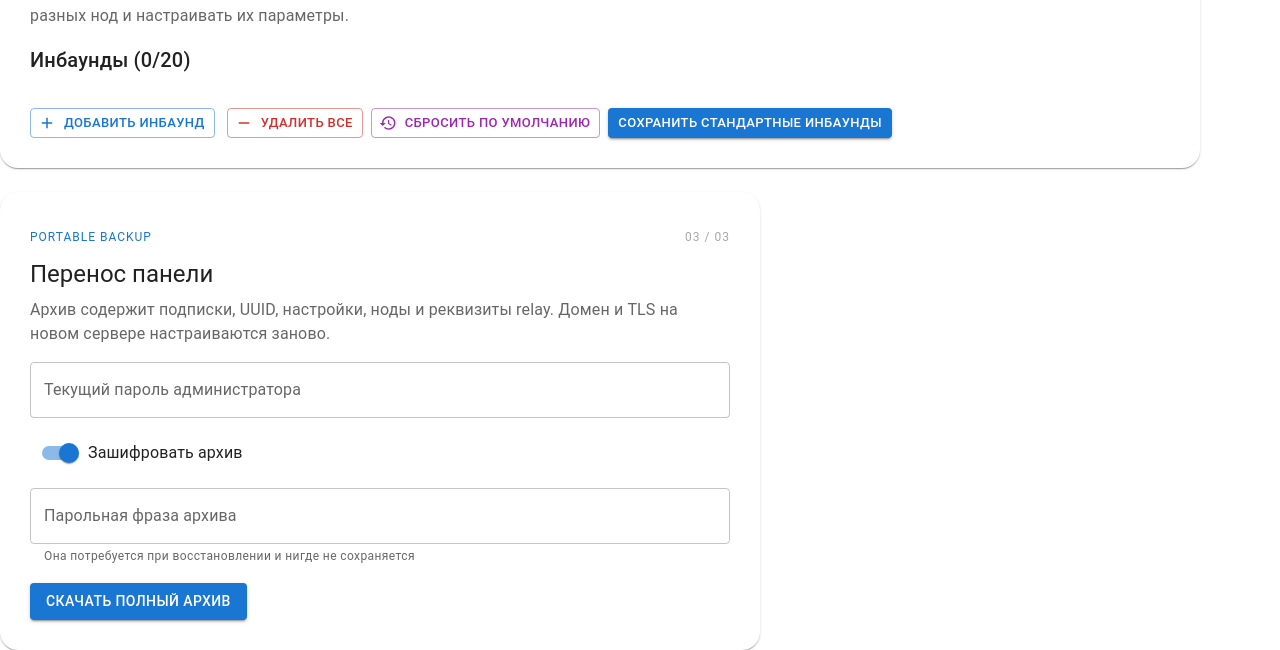
it: SettingsPage › warns before exporting an unencrypted backup
The image size is (1280, 650).
(page scrolled)
Click the switch labelled "Зашифровать архив".
click(142, 453)  # box [42,443,243,463]
(page scrolled)
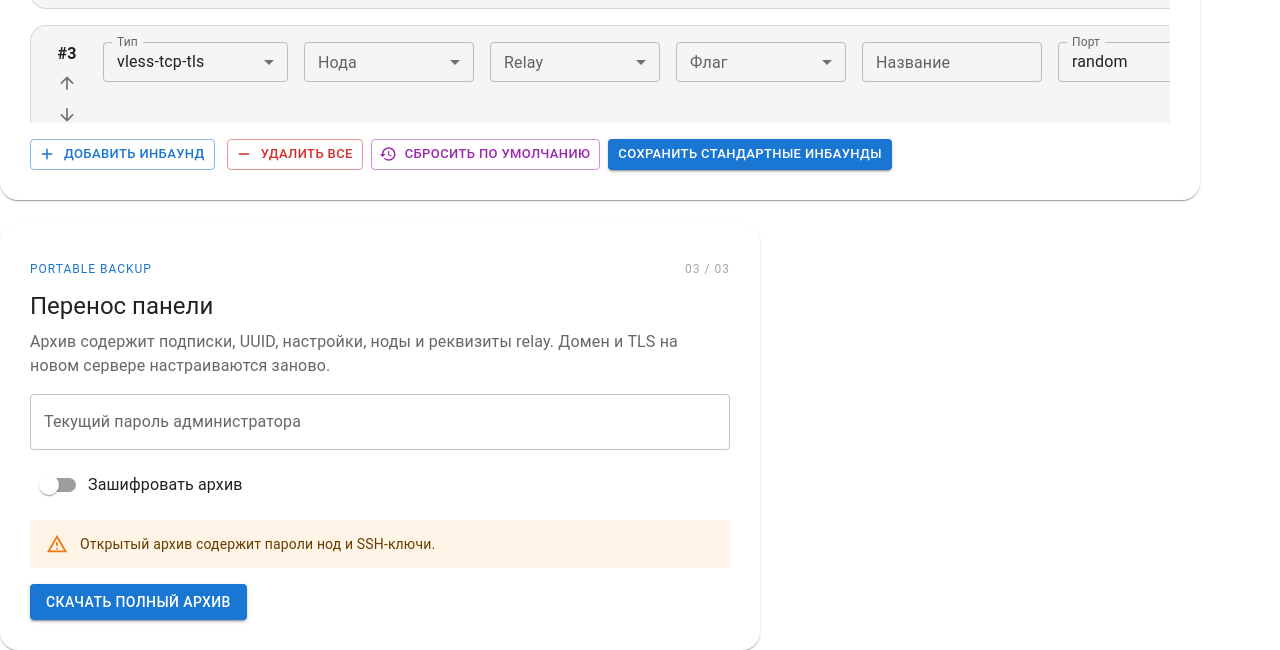
Now the text "Открытый архив содержит пароли нод и SSH-ключи." is shown, box [80,536,435,552]
